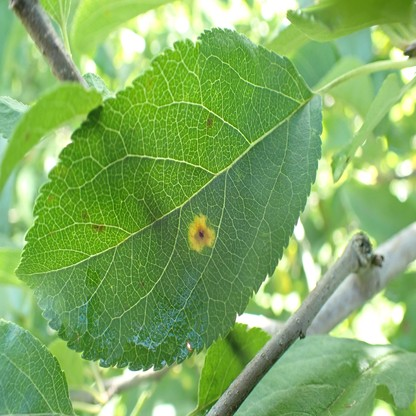rust: (187, 214, 215, 250)
